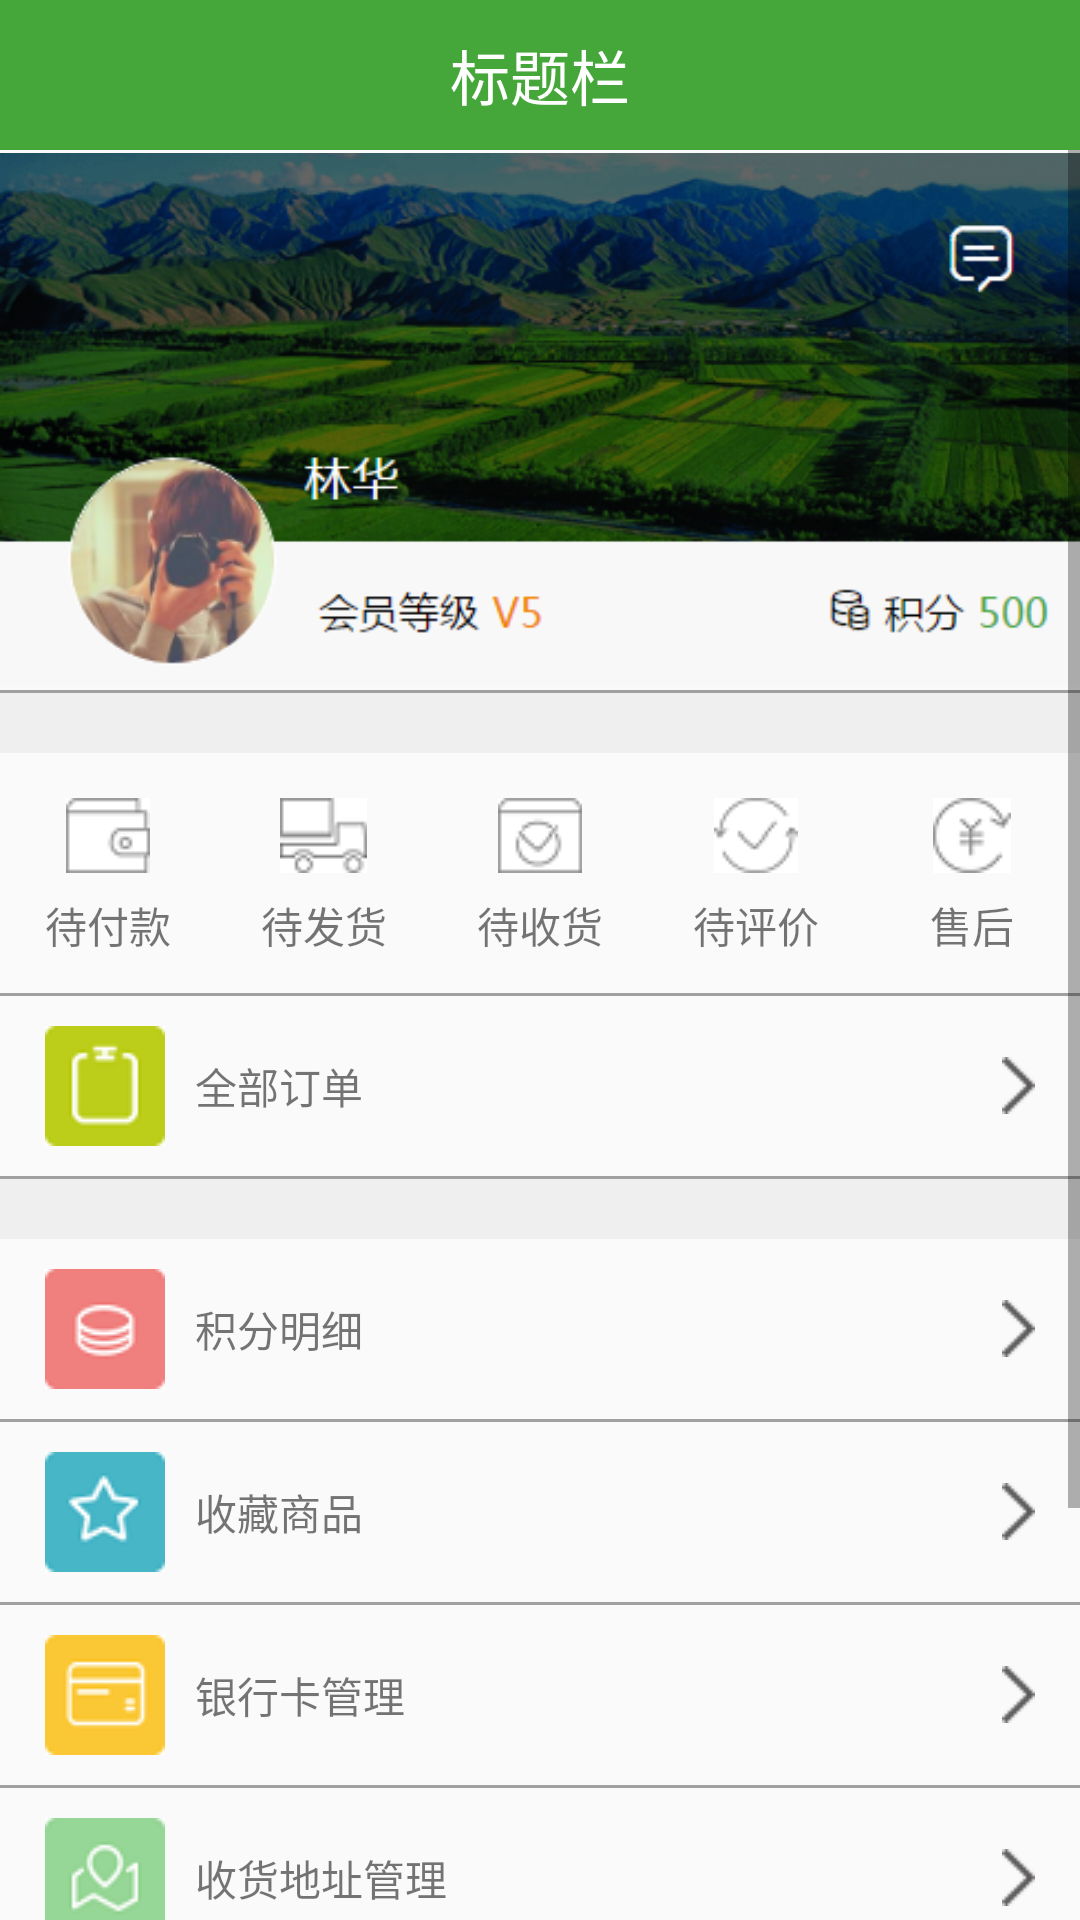

Where to tap for icons on this 1080 x 1920 app screen, as (x,y):
zhan kai jian tou: (1018,1085), (1018,1328), (1018,1511), (1018,1694), (1018,1877)
